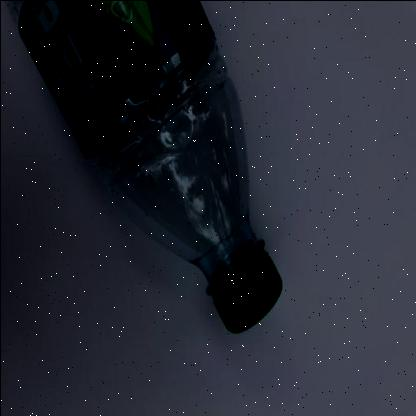Plastic Bottle: (6, 1, 280, 332)
